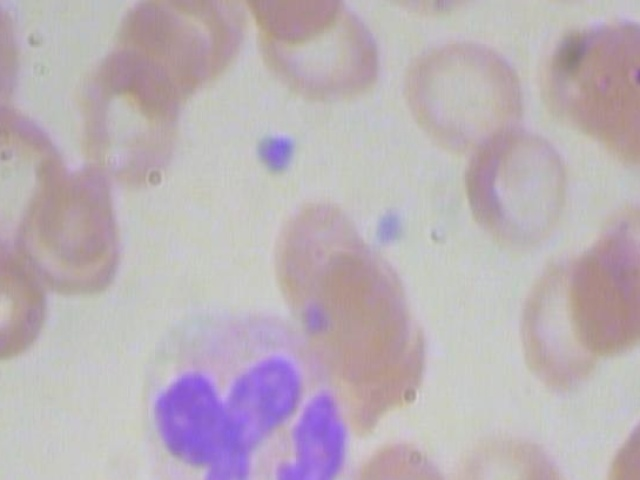Platelets: (251, 125, 299, 181), (367, 193, 415, 249)
RBC: (503, 250, 628, 405), (62, 47, 191, 187), (402, 23, 531, 161), (453, 110, 582, 247), (252, 3, 385, 103), (0, 227, 52, 367), (448, 427, 577, 480), (222, 0, 354, 43), (0, 0, 37, 148)
WBC: (109, 305, 365, 480)
